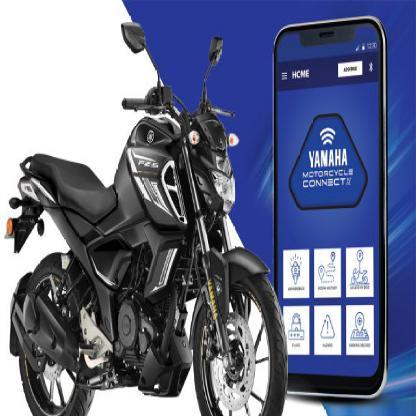Motorcycle: (4, 17, 290, 415)
